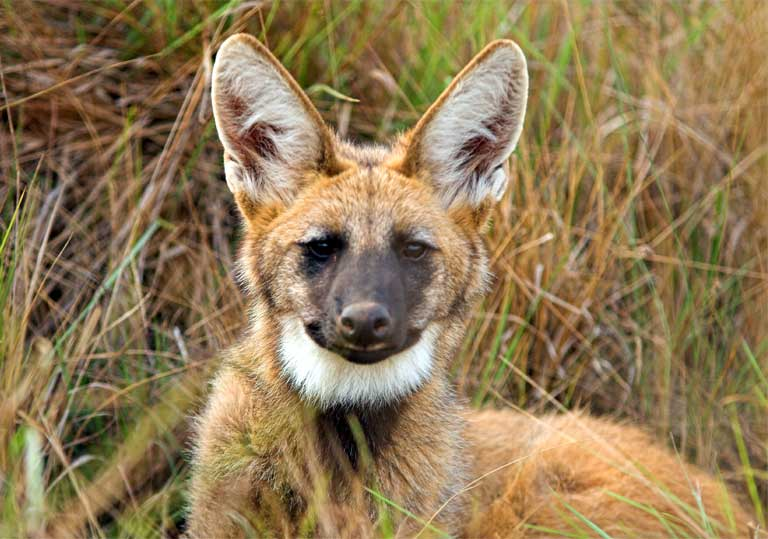LoboGuara: (187, 23, 710, 531)
